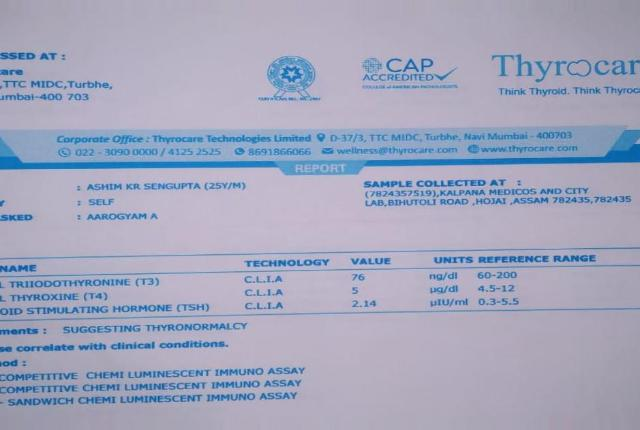Clinical_Conditions: (0, 358, 318, 411)
Name: (83, 181, 249, 194)
Ref_By: (85, 197, 122, 208)
Reference_Range: (477, 268, 526, 312)
Technology: (239, 275, 293, 314)
Test_Asked: (84, 212, 163, 226)
Test_Name: (0, 279, 213, 314)
Unit: (427, 268, 473, 312)
Value: (346, 270, 385, 313)
